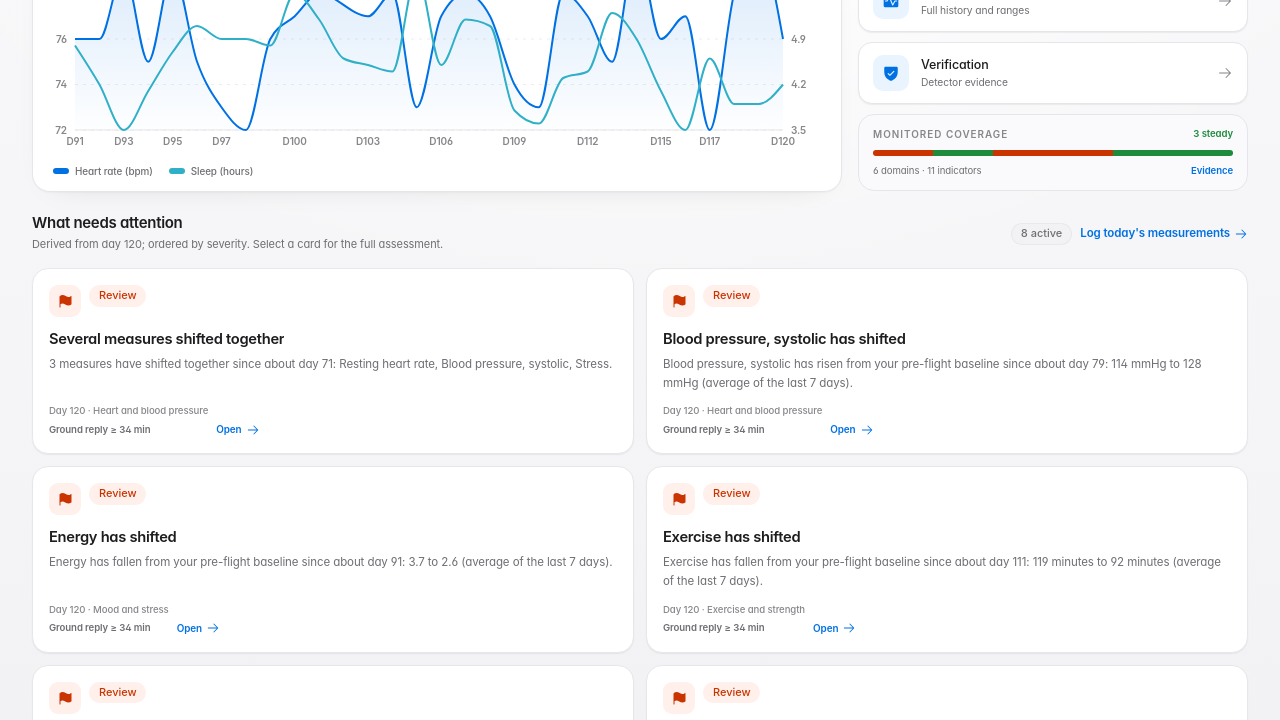
Test: U7: TodayPage Assembly › renders Today screen layout with scrubber, body map, domains, and alert cards
(page scrolled)
Expected: the heading "What needs attention" is shown, [32,213,182,232]
Click the button with aria-label "Open alert details:" at (333, 361), box [32,268,634,454]
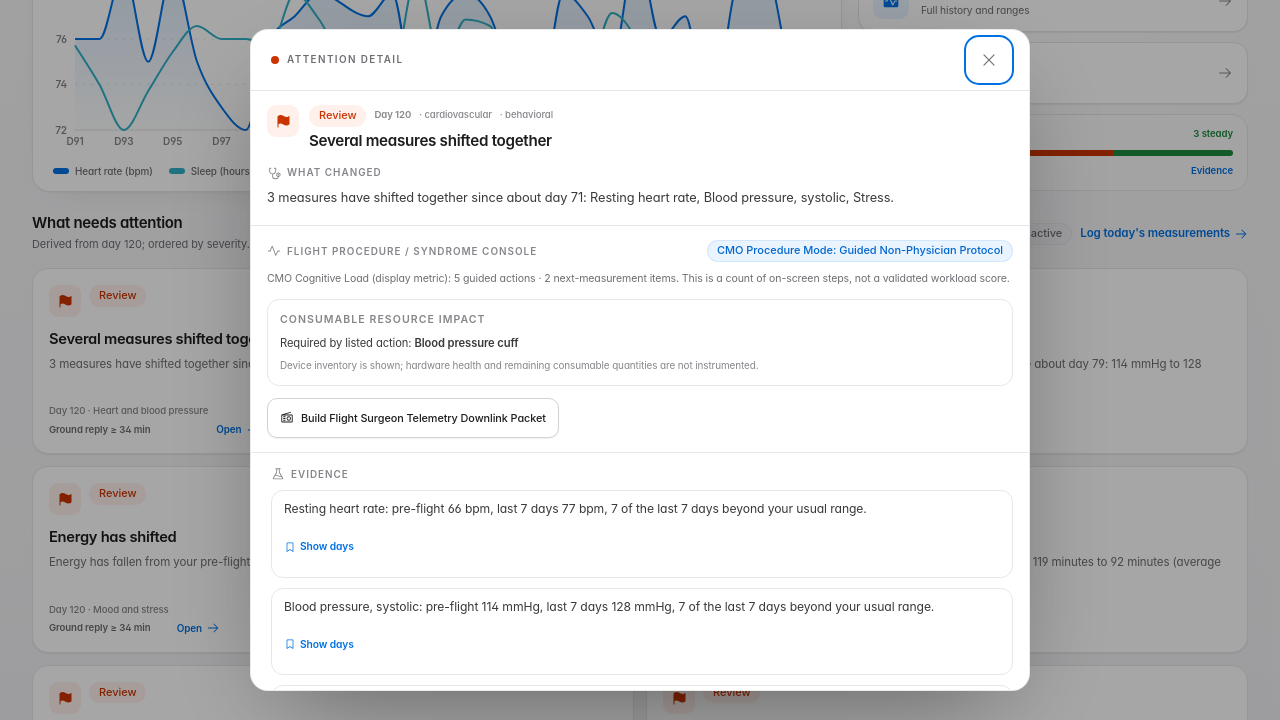
Expected: the dialog named "Alert details:" is shown, [250,29,1030,691]
Expected: the heading "What changed" is shown, [267,166,382,180]
Click the button named "Close alert details" at (989, 60), box [969,40,1009,80]
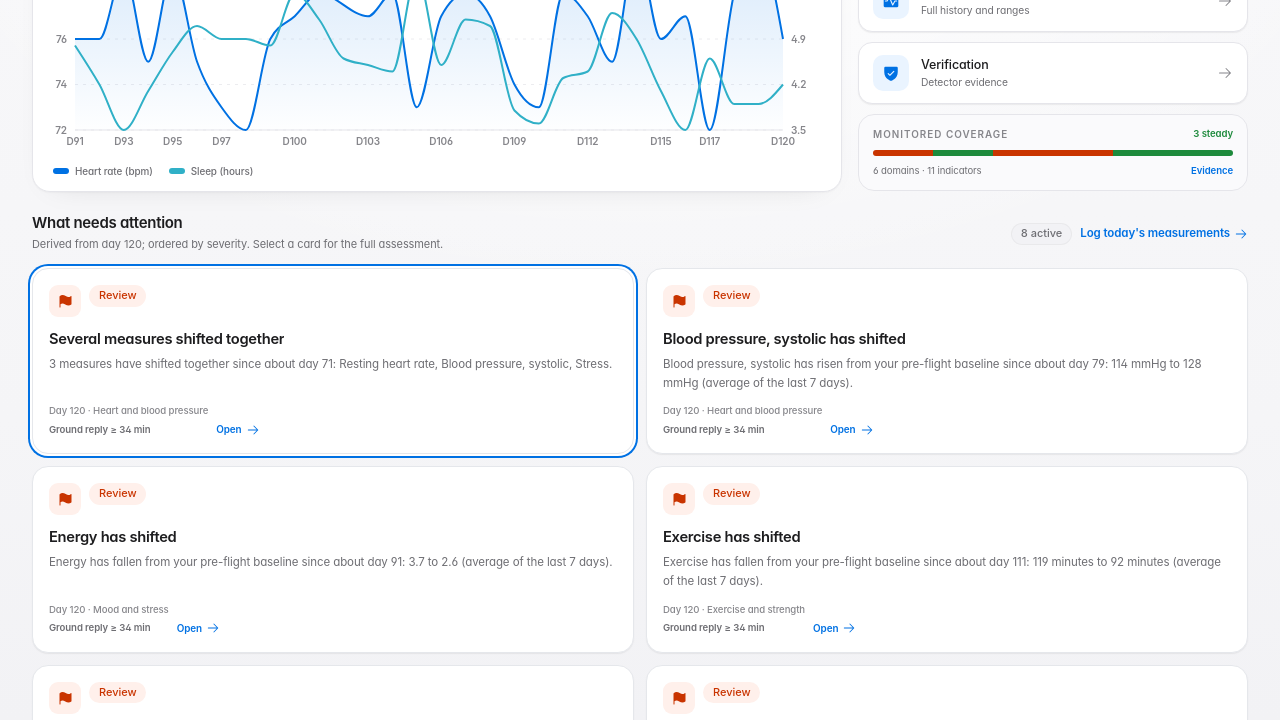
Expected: the dialog is gone
